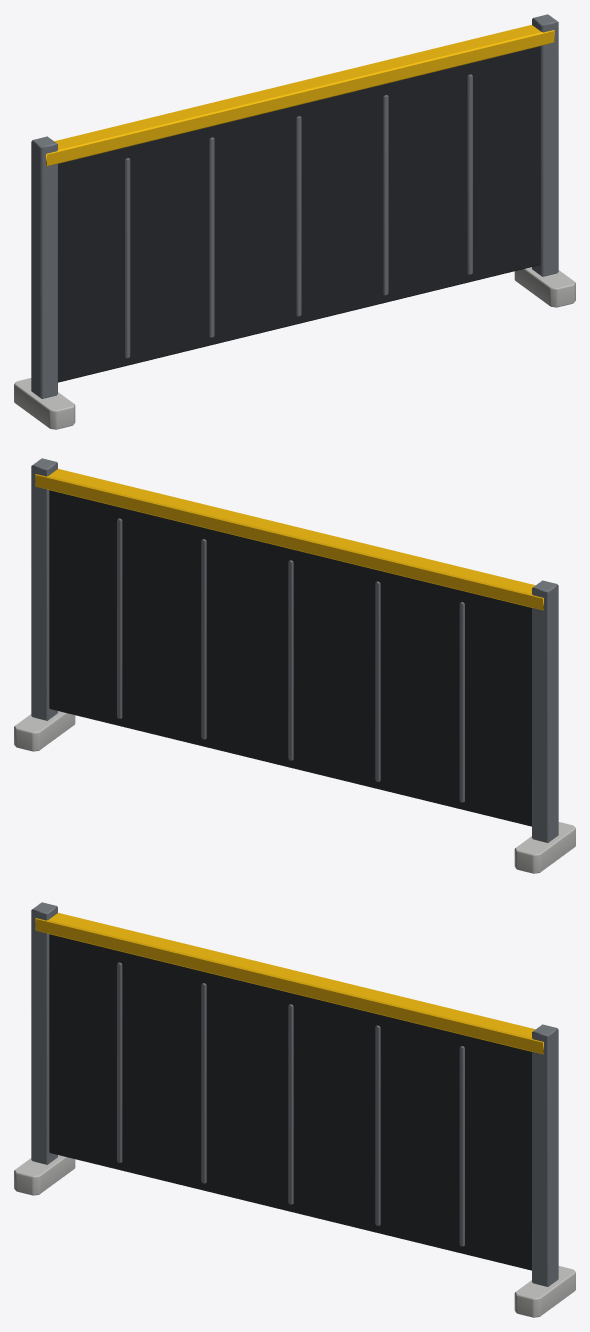
Rendered from CONSTRUCTION_FENCE_01.glb.
3 renders of one model, top to bottom at view 1: azimuth 30°, elevation 25°; view 2: azimuth 150°, elevation 25°; view 3: azimuth 330°, elevation 25°, orthographic.
Parts seen in each view (by area): view 1: CIVRUM_GAME_CONSTRUCTION_FENCE_01; view 2: CIVRUM_GAME_CONSTRUCTION_FENCE_01; view 3: CIVRUM_GAME_CONSTRUCTION_FENCE_01.
Boxes of the visible parts, x1=… form: CIVRUM_GAME_CONSTRUCTION_FENCE_01: x1=14, y1=14, x2=575, y2=429; CIVRUM_GAME_CONSTRUCTION_FENCE_01: x1=14, y1=458, x2=575, y2=873; CIVRUM_GAME_CONSTRUCTION_FENCE_01: x1=14, y1=902, x2=575, y2=1317.
Bounding box in the file's own units: 4 × 1.97 × 0.54.
